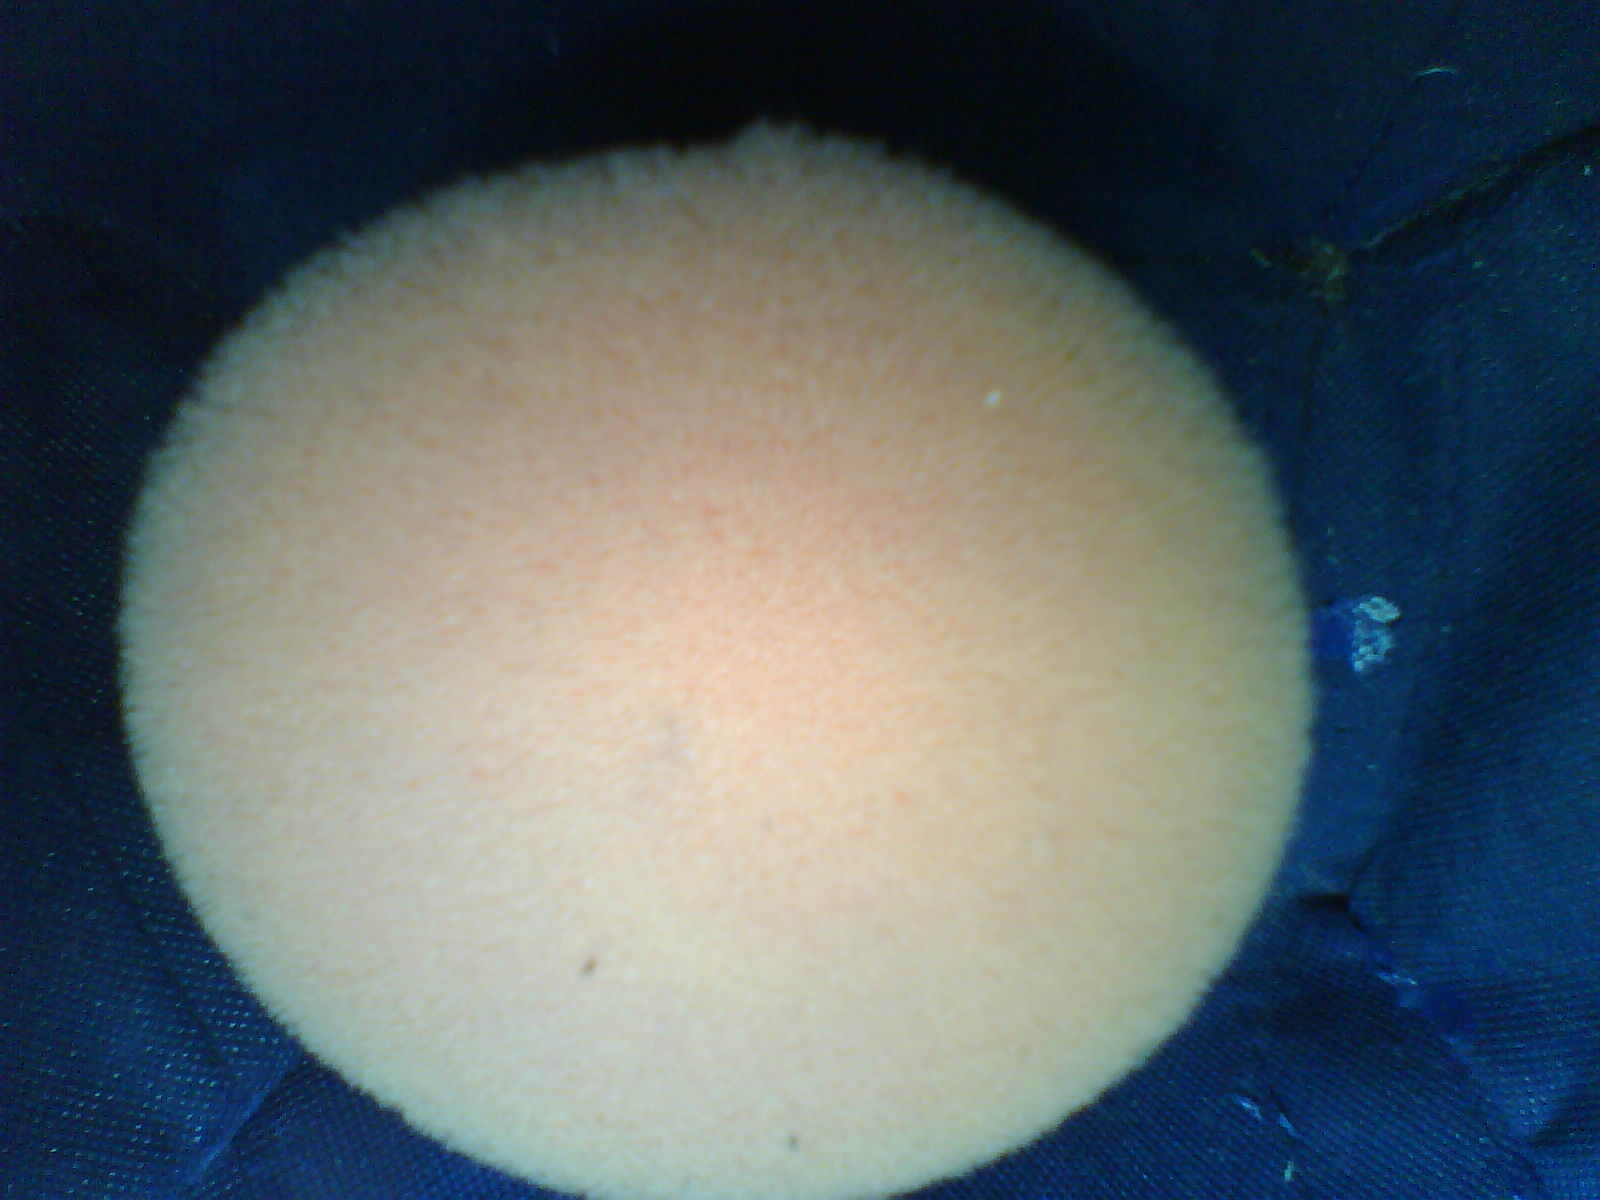cylinder-soft: (108, 108, 1328, 1200)
